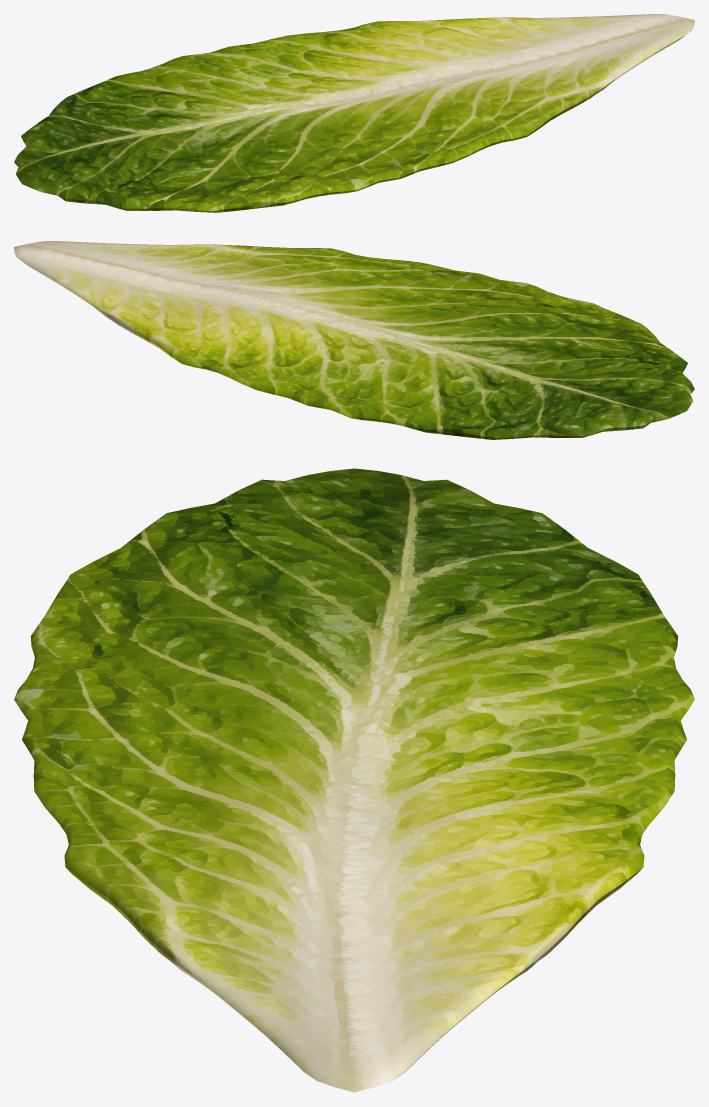
Rendered from JG_Lettuce.fbx.
3 views of the same model, one above another, from view 1: azimuth 30°, elevation 25°; view 2: azimuth 150°, elevation 25°; view 3: azimuth 270°, elevation 25° (orthographic). The views are drawn at different scales.
Visible parts, largest first — view 1: pCube1; view 2: pCube1; view 3: pCube1.
Boxes of the visible parts, x1,y1,x2,y2 form: pCube1: (14,14,694,212); pCube1: (14,241,694,439); pCube1: (14,468,694,1092).
Bounding box in the file's own units: 544 × 14.92 × 251.
1 material, 1 textured.
